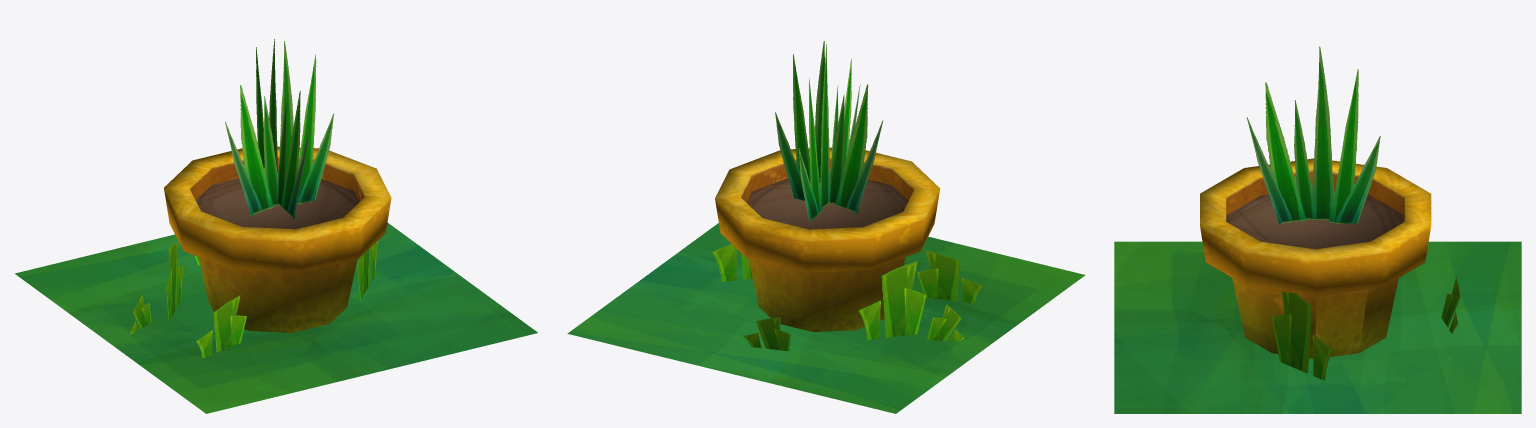
Rendered from aloevera3.obj.
3 renders of one model, left to right at view 1: azimuth 30°, elevation 25°; view 2: azimuth 150°, elevation 25°; view 3: azimuth 270°, elevation 25°, orthographic. The views are drawn at different scales.
Visible parts, largest first — view 1: Stylizedplants_model.002; view 2: Stylizedplants_model.002; view 3: Stylizedplants_model.002.
Boxes of the visible parts, x1=… form: Stylizedplants_model.002: x1=15, y1=39, x2=537, y2=413; Stylizedplants_model.002: x1=567, y1=41, x2=1085, y2=413; Stylizedplants_model.002: x1=1114, y1=46, x2=1521, y2=413.
Bounding box in the file's own units: 45.19 × 36.13 × 45.19.
1 material, 1 textured.
